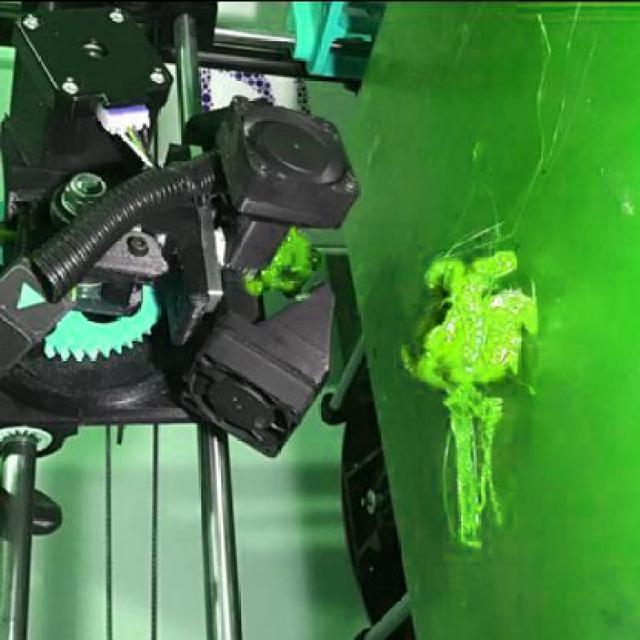spaghetti: (440, 386, 508, 551)
